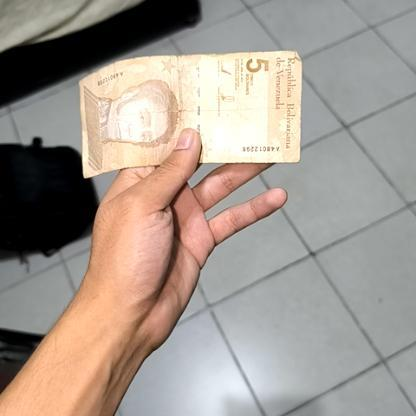five-front-vef: (79, 49, 300, 179)
